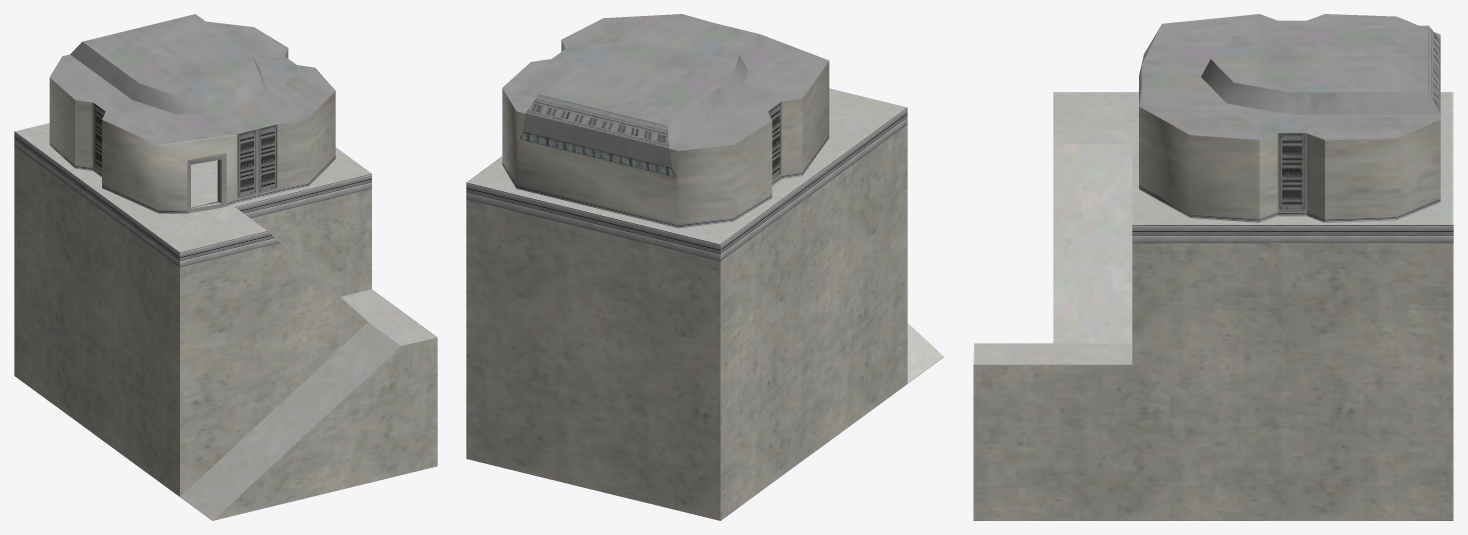
File: ply_all_house_sm_s02_fp1_r0_mesh_l2.fbx
3 renders of one model, left to right at view 1: azimuth 30°, elevation 25°; view 2: azimuth 150°, elevation 25°; view 3: azimuth 270°, elevation 25°, orthographic. The views are drawn at different scales.
Parts seen in each view (by area): view 1: mesh_node; view 2: mesh_node; view 3: mesh_node.
Part boxes in pixels (x1=…): mesh_node: x1=14, y1=14, x2=437, y2=520; mesh_node: x1=466, y1=14, x2=943, y2=520; mesh_node: x1=973, y1=14, x2=1453, y2=520.
Bounding box in the file's own units: 15.87 × 22.12 × 24.27.
